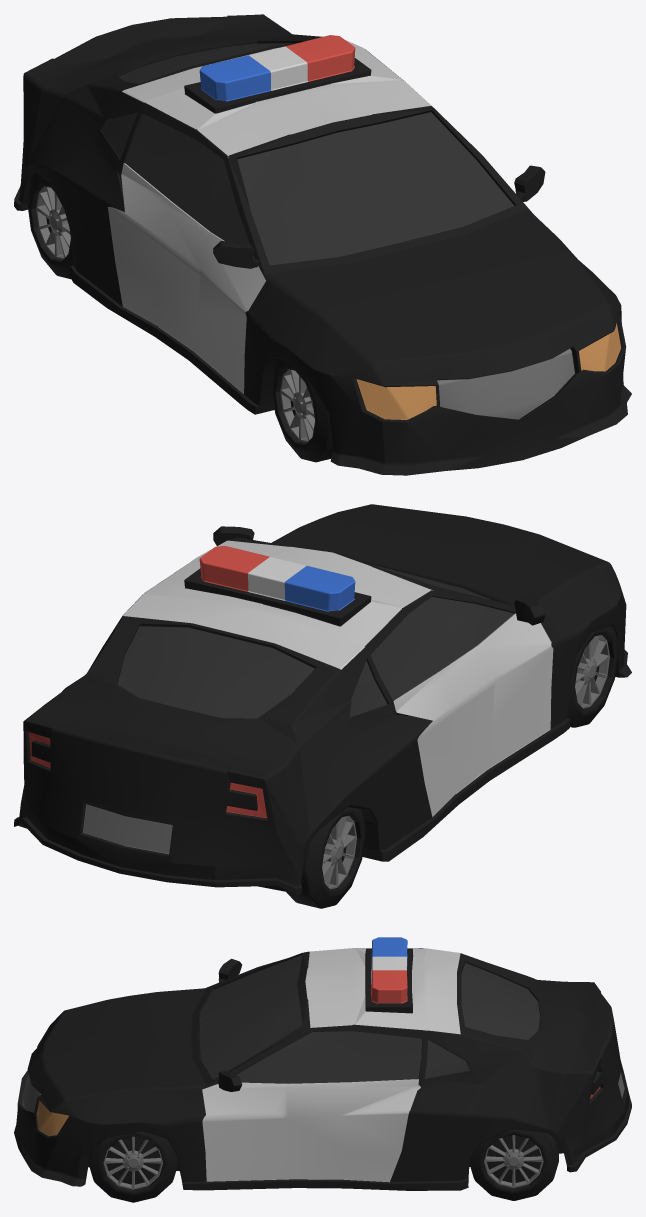
File: police.glb
The picture shows the model from 3 angles, top to bottom: view 1: azimuth 30°, elevation 25°; view 2: azimuth 150°, elevation 25°; view 3: azimuth 270°, elevation 25°; orthographic projection. The views are drawn at different scales.
Parts seen in each view (by area): view 1: Cop_Cube.001, Cop_FrontRightWheel_Cylinder.012, Cop_BackWheels_Cylinder.001; view 2: Cop_Cube.001, Cop_BackWheels_Cylinder.001, Cop_FrontRightWheel_Cylinder.012; view 3: Cop_Cube.001, Cop_BackWheels_Cylinder.001, Cop_FrontLeftWheel_Cylinder.011.
Boxes of the visible parts, x1=… form: Cop_Cube.001: x1=14, y1=14, x2=631, y2=475; Cop_FrontRightWheel_Cylinder.012: x1=271, y1=358, x2=332, y2=462; Cop_BackWheels_Cylinder.001: x1=27, y1=172, x2=73, y2=279; Cop_Cube.001: x1=14, y1=504, x2=631, y2=895; Cop_BackWheels_Cylinder.001: x1=286, y1=807, x2=365, y2=908; Cop_FrontRightWheel_Cylinder.012: x1=567, y1=626, x2=618, y2=727; Cop_Cube.001: x1=14, y1=937, x2=631, y2=1190; Cop_BackWheels_Cylinder.001: x1=469, y1=1129, x2=558, y2=1200; Cop_FrontLeftWheel_Cylinder.011: x1=88, y1=1131, x2=178, y2=1202.
Size of the model in its own units: 1.77 by 1.24 by 3.73.
